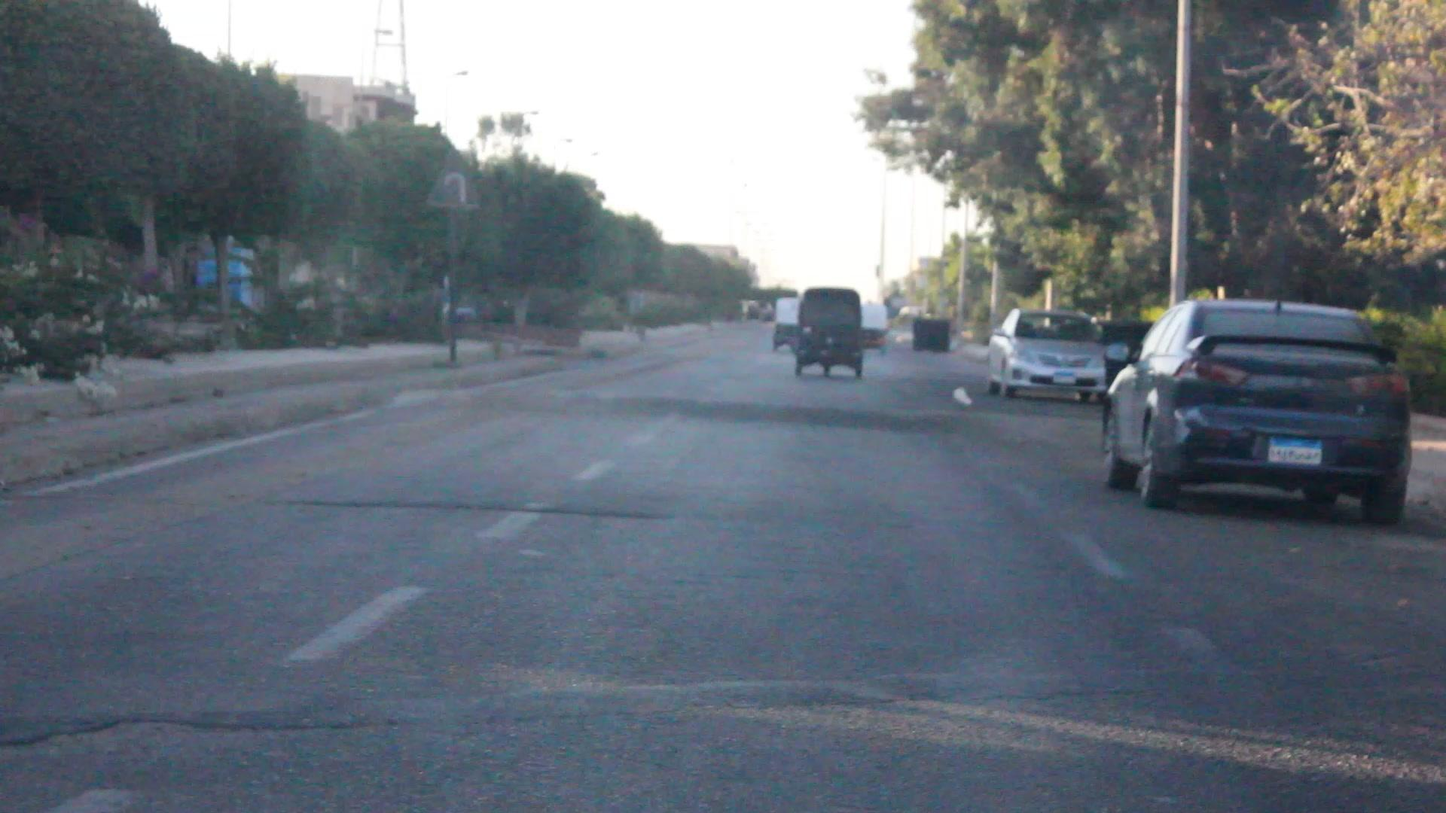Bump: (386, 383, 1108, 447)
